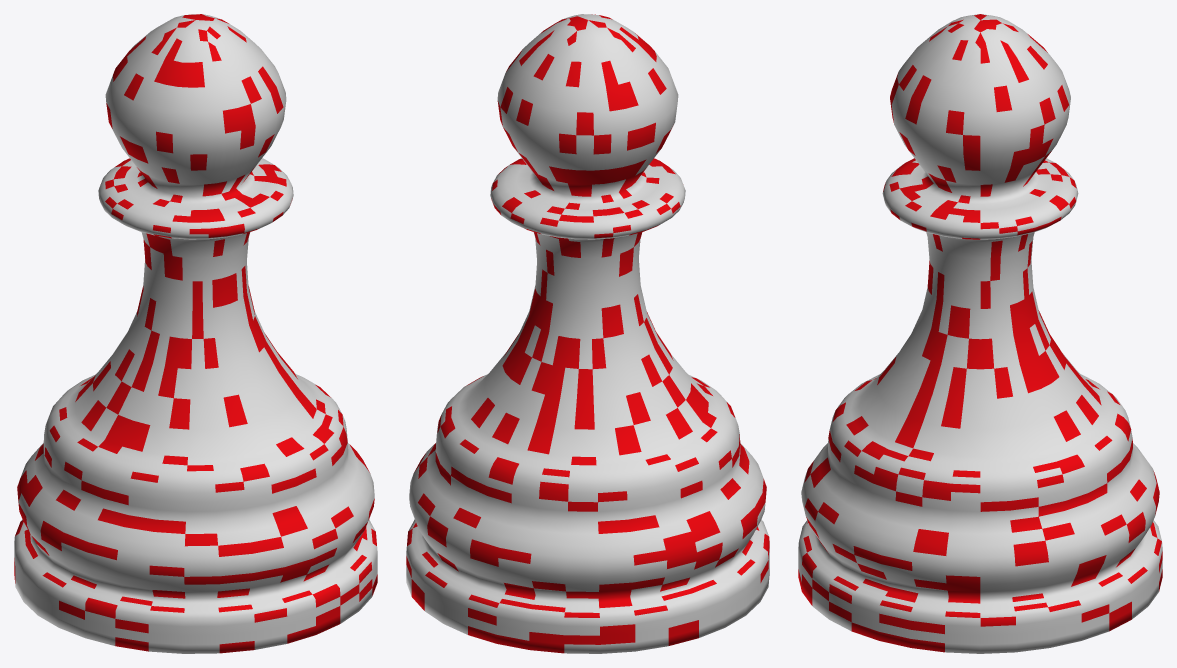
The model's file is white_pawn.obj.
3 renders of one model, left to right at view 1: azimuth 30°, elevation 25°; view 2: azimuth 150°, elevation 25°; view 3: azimuth 270°, elevation 25°, orthographic.
Parts seen in each view (by area): view 1: Pawn_Cylinder.000; view 2: Pawn_Cylinder.000; view 3: Pawn_Cylinder.000.
Part boxes in pixels (x1=…): Pawn_Cylinder.000: x1=14, y1=14, x2=377, y2=653; Pawn_Cylinder.000: x1=406, y1=14, x2=769, y2=653; Pawn_Cylinder.000: x1=798, y1=14, x2=1162, y2=653.
Bounding box in the file's own units: 1.04 × 1.74 × 1.04.
